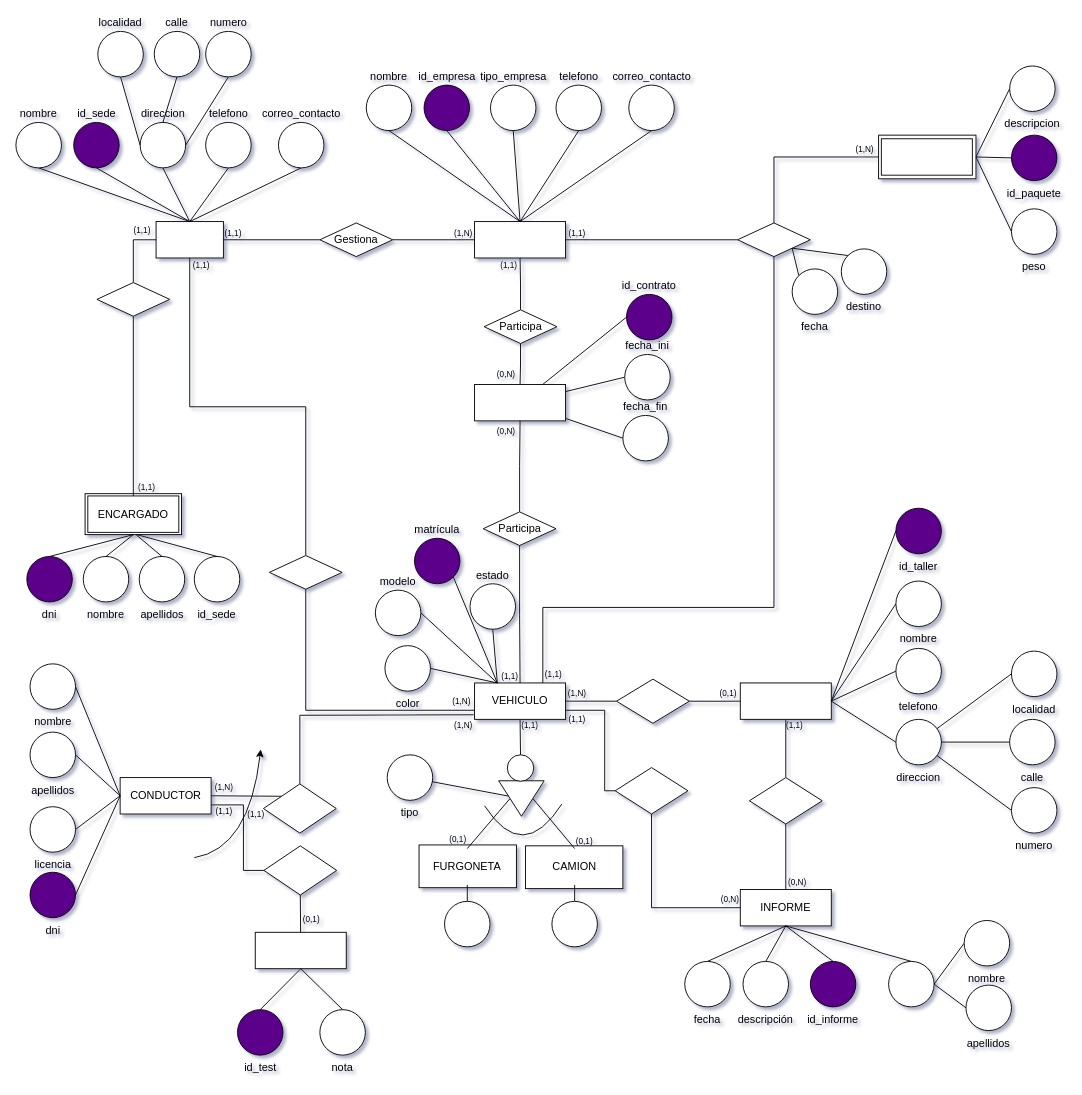
This 1082x1095 diagram has some shape labels left out. Each missing label, with the box of its shape:
Administra: (96, 282, 170, 316)
Asociado: (616, 678, 689, 723)
Conduce: (263, 783, 336, 833)
CONTRATO: (474, 384, 566, 421)
EMPRESA: (474, 221, 566, 258)
Envia: (737, 222, 810, 257)
Genera: (748, 777, 822, 824)
nombre_mecanico: (888, 961, 934, 1007)
PAQUETE: (880, 138, 972, 175)
Pasa: (263, 845, 337, 895)
Pertenece: (614, 767, 688, 814)
porton_lateral: (444, 900, 490, 947)
SEDE: (155, 221, 223, 258)
TALLER: (739, 682, 831, 719)
TEST: (254, 931, 346, 969)
Tiene: (268, 555, 342, 589)
tiene_trailer: (551, 900, 597, 947)
